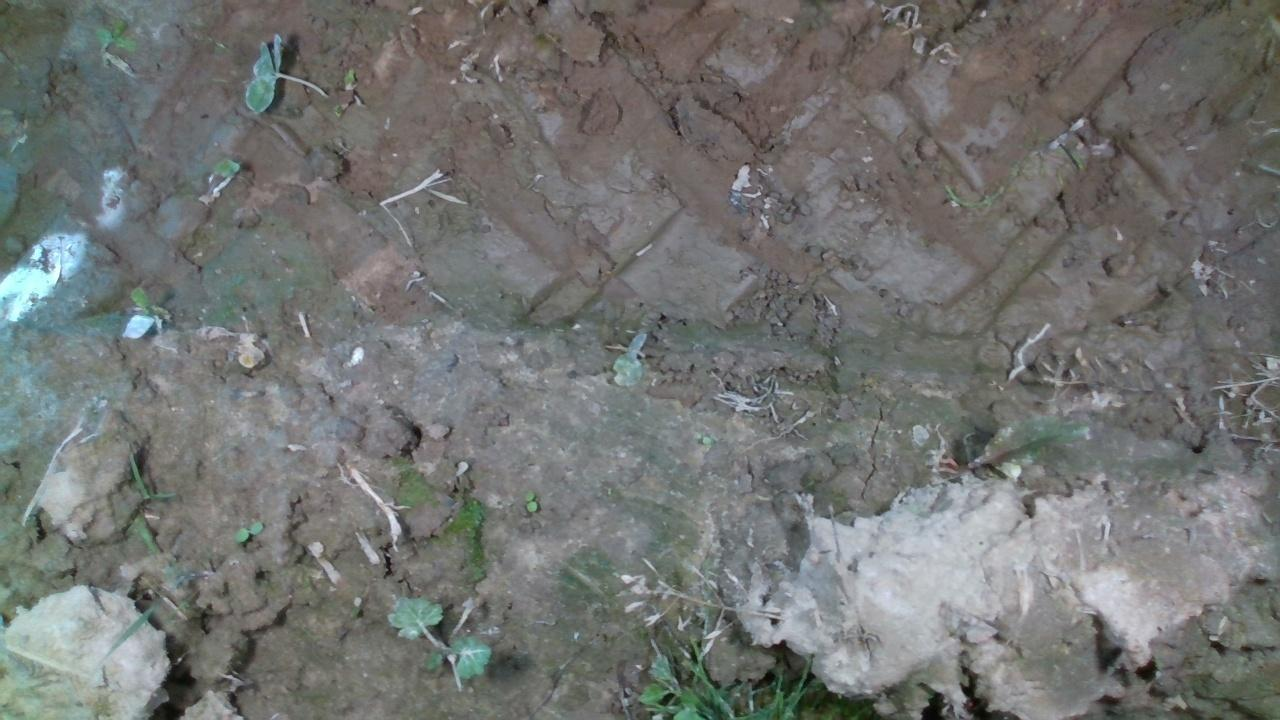weed: (232, 519, 262, 542), (520, 486, 538, 513)
